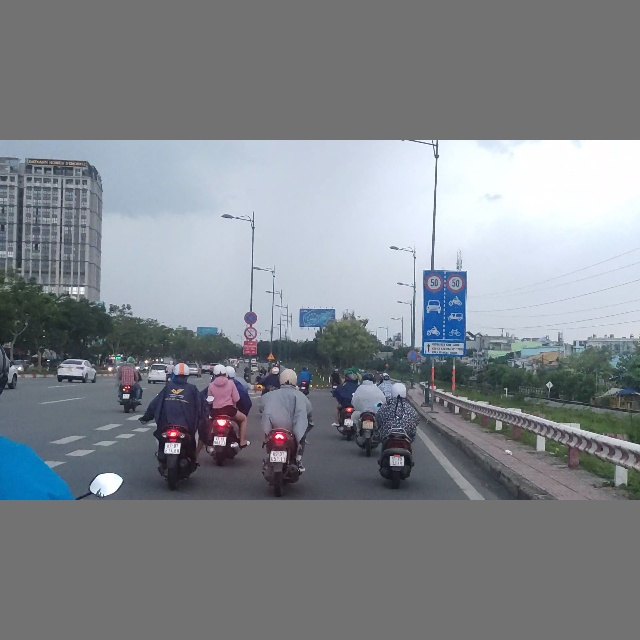P.111: (244, 327, 257, 340)
P.127*50: (446, 273, 465, 293), (425, 273, 443, 292)
P.130: (244, 310, 258, 325)
P.131a: (407, 349, 419, 362)
W.201a: (266, 351, 276, 360)
